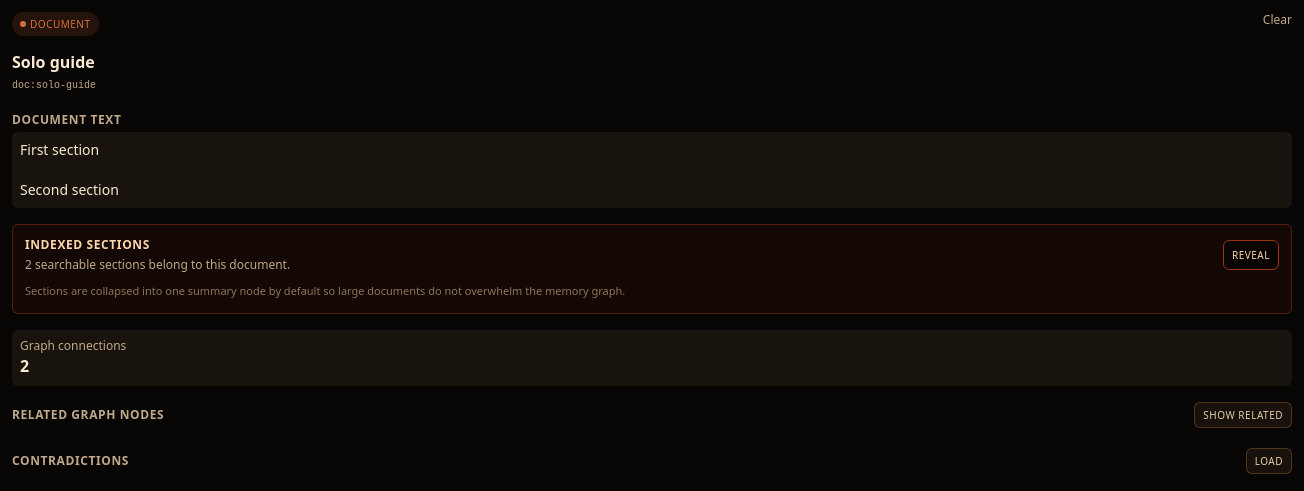
Test case: InspectorPanel › explains collapsed document sections and reveals them from the inspector
The image size is (1304, 491).
Expected: the heading "Document text" is shown, top-left (12, 111), bottom-right (121, 128)
Expected: the text "2 searchable sections belong to this document." is shown, top-left (25, 257), bottom-right (290, 273)
Click the button "Reveal": (1251, 255) top-left (1223, 240), bottom-right (1279, 270)
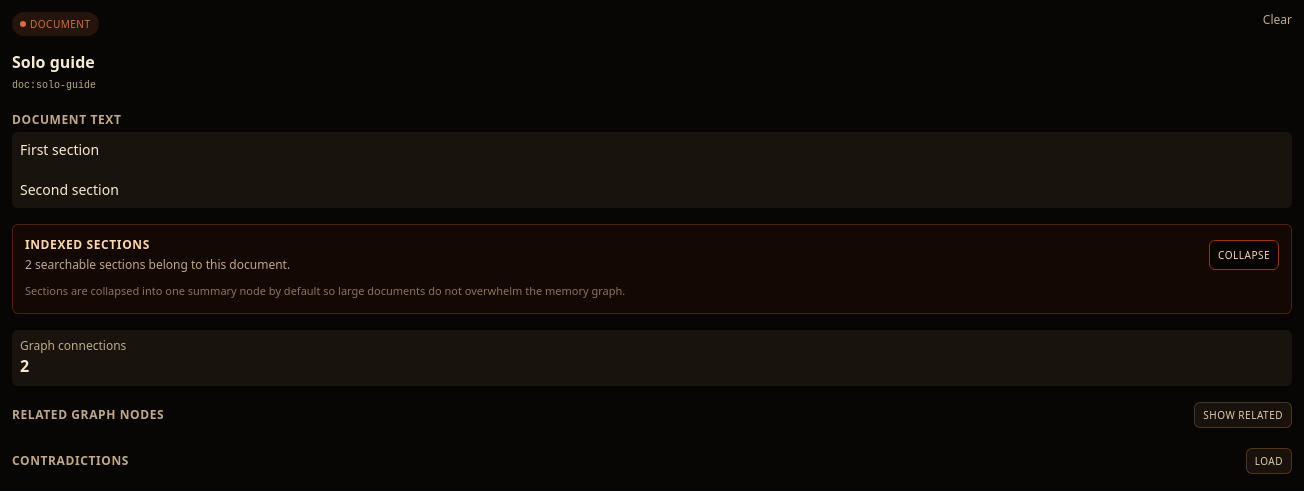
Expected: the button "Collapse" is shown, top-left (1209, 240), bottom-right (1279, 270)
